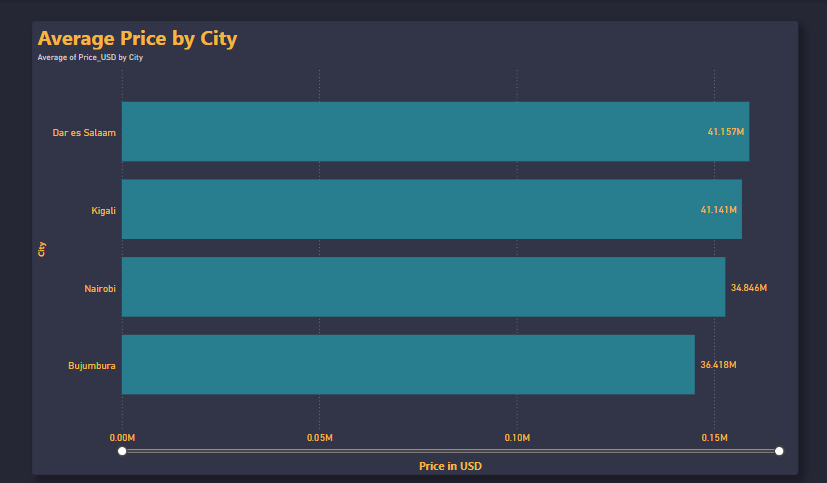

This screenshot's page, from the dashboard's own definition file:
{"tool":"powerbi","page":{"name":"Average Price by City","canvas":[1280,720],"ordinal":0},"visuals":[{"type":"clusteredBarChart","title":"Average Price by City","fields":{"Y":["Avg(Sheet1.Price_USD)"],"Category":["Sheet1.City"]},"box":[51.4,30.9,1125.6,667.1],"z":0}]}

Visuals, with their boxes on the page's 1280x720 design canvas (x1, y1, x2, y2). These are canvas units, not pixel positions in the 827x483 screenshot, which may show the page scaled, cropped or inside an application window:
"Average Price by City" clusteredBarChart: 51:31:1177:698
